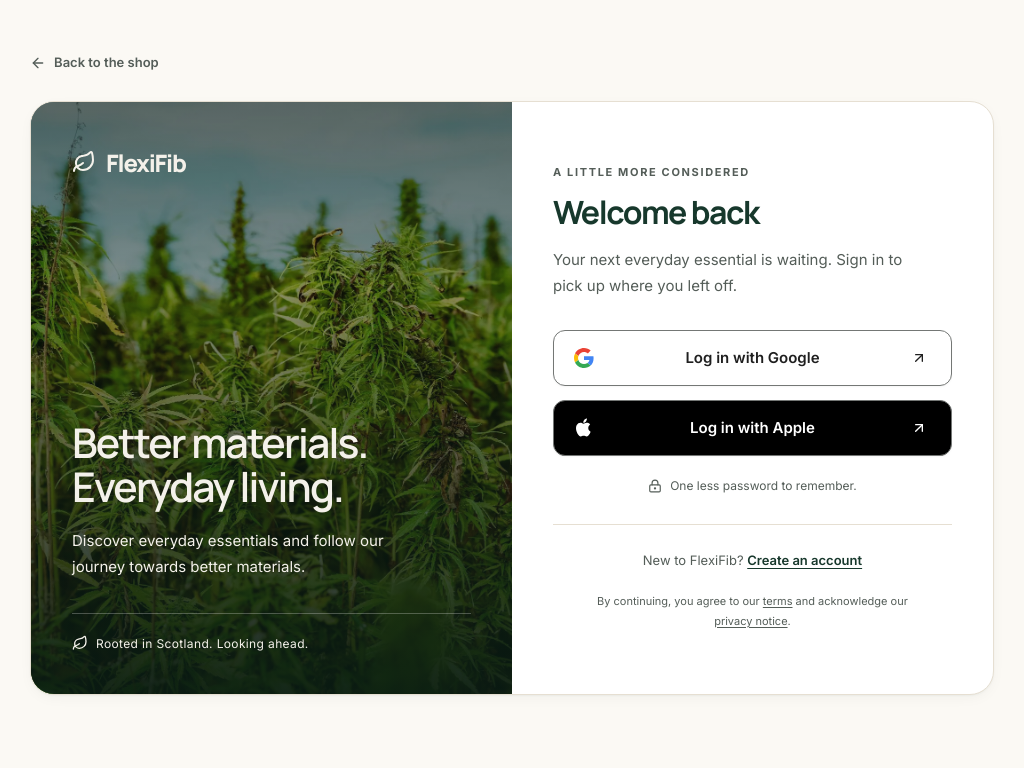
Test case: social account options › re-enables the options if the provider returns an error
The width and height of the screenshot is (1024, 768).
Click the button "Log in with Google" at x=752, y=358, box [553,330,952,386]
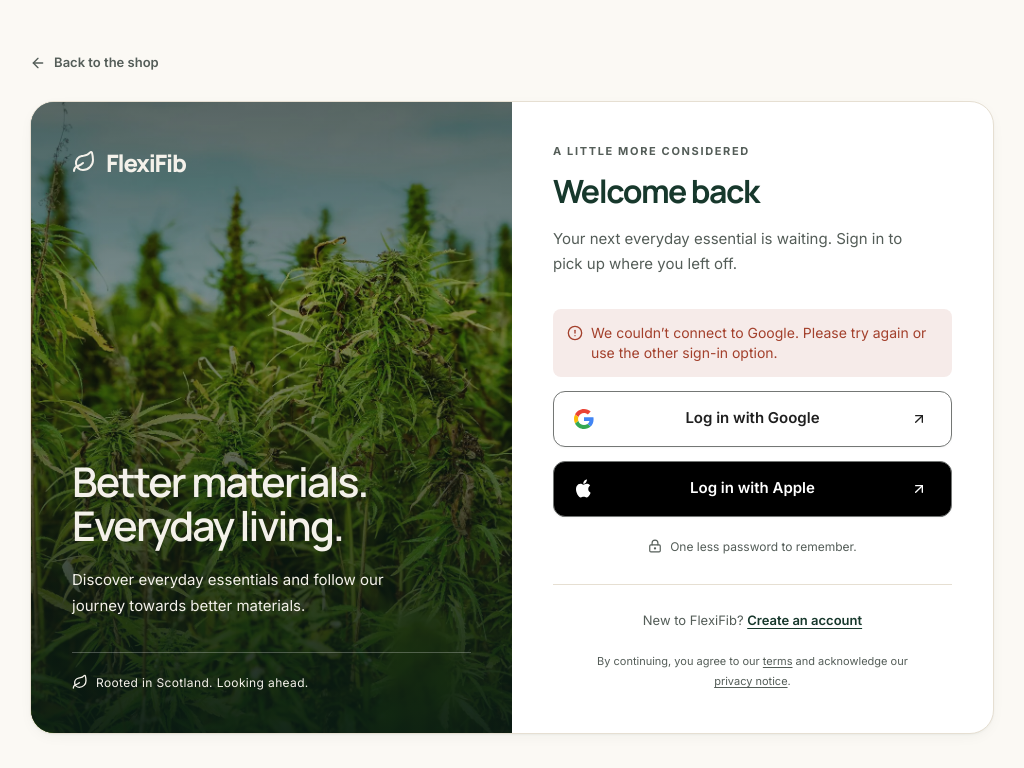
Expected: the button "Log in with Apple" is enabled, [553,461,952,517]
Now the message shows "couldn’t connect to Google", box [591,324,926,361]
